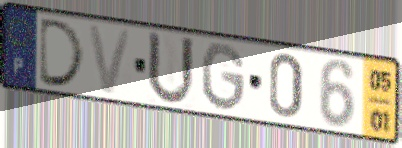0: (267, 51, 306, 122)
6: (316, 56, 358, 132)
D: (36, 16, 88, 90)
G: (199, 40, 248, 114)
U: (145, 28, 197, 108)
V: (85, 21, 135, 97)
